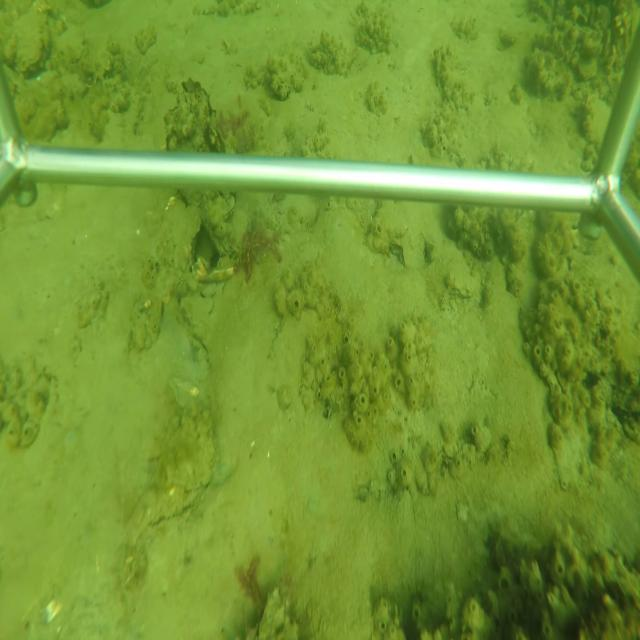Oyster-Closed: (125, 306, 219, 564), (127, 190, 202, 351), (437, 237, 477, 303)
